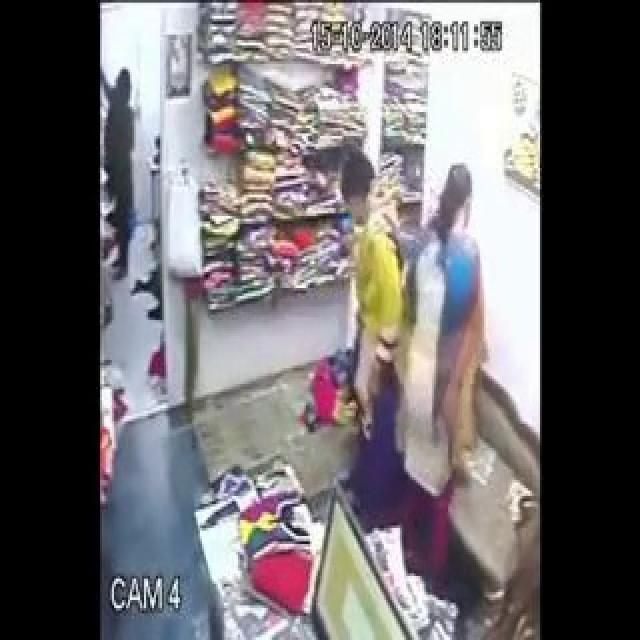Shoplifting: (388, 189, 494, 522)
